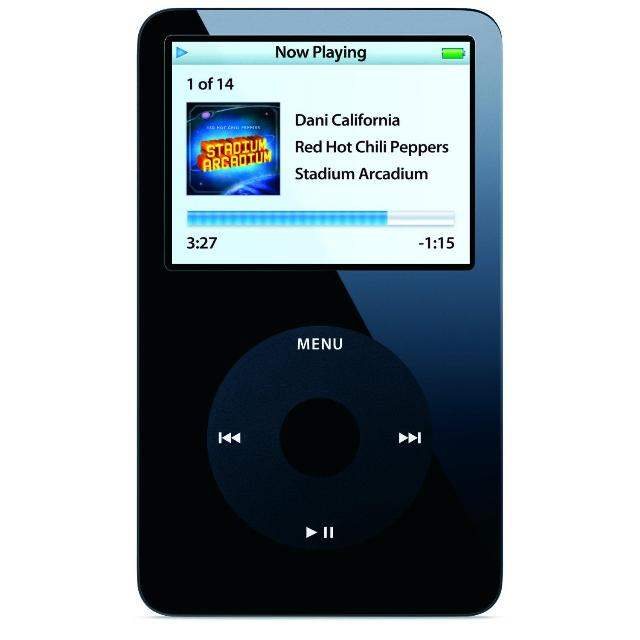Music-Player: (116, 1, 518, 632)
